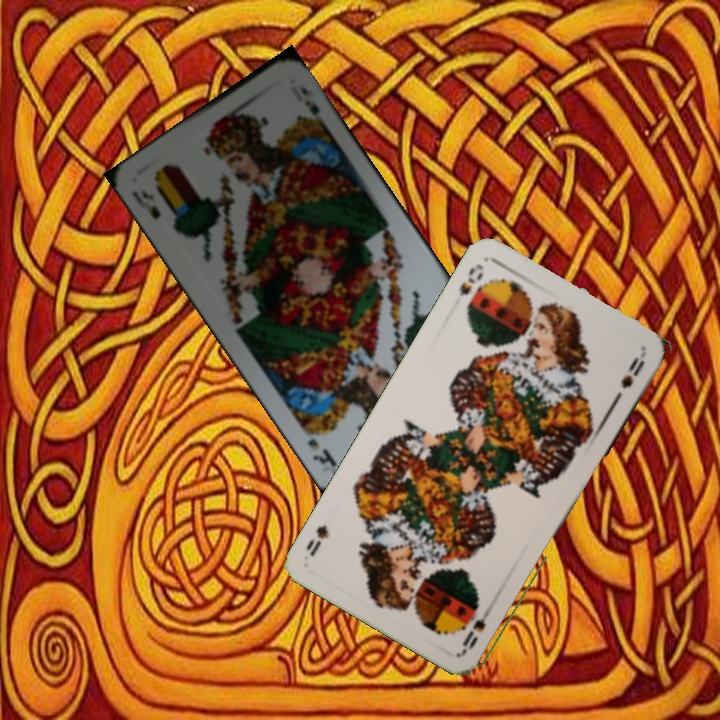EK: (127, 185, 164, 222)
SO: (458, 599, 497, 653), (455, 259, 486, 300)
